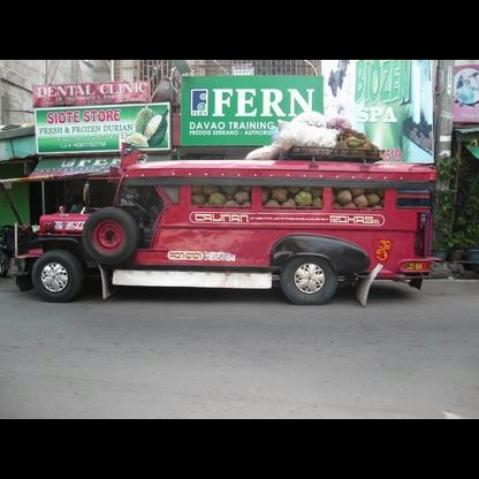jeepney: (12, 142, 449, 302)
